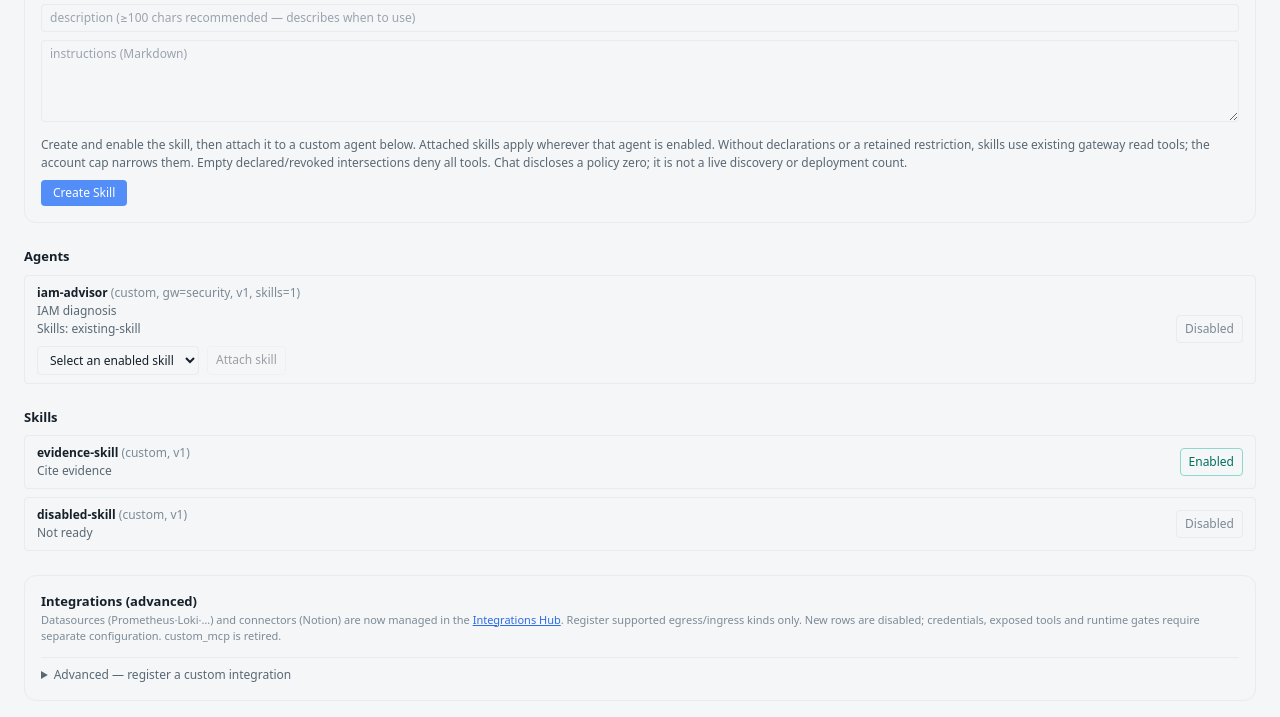
Test: custom agent registration › localizes attachment controls and failure feedback in en
This screenshot has width=1280, height=717.
(page scrolled)
Step 1. Select "evidence-skill" in the dropdown named "Skill for iam-advisor" → (118, 360), box [37, 346, 199, 374]
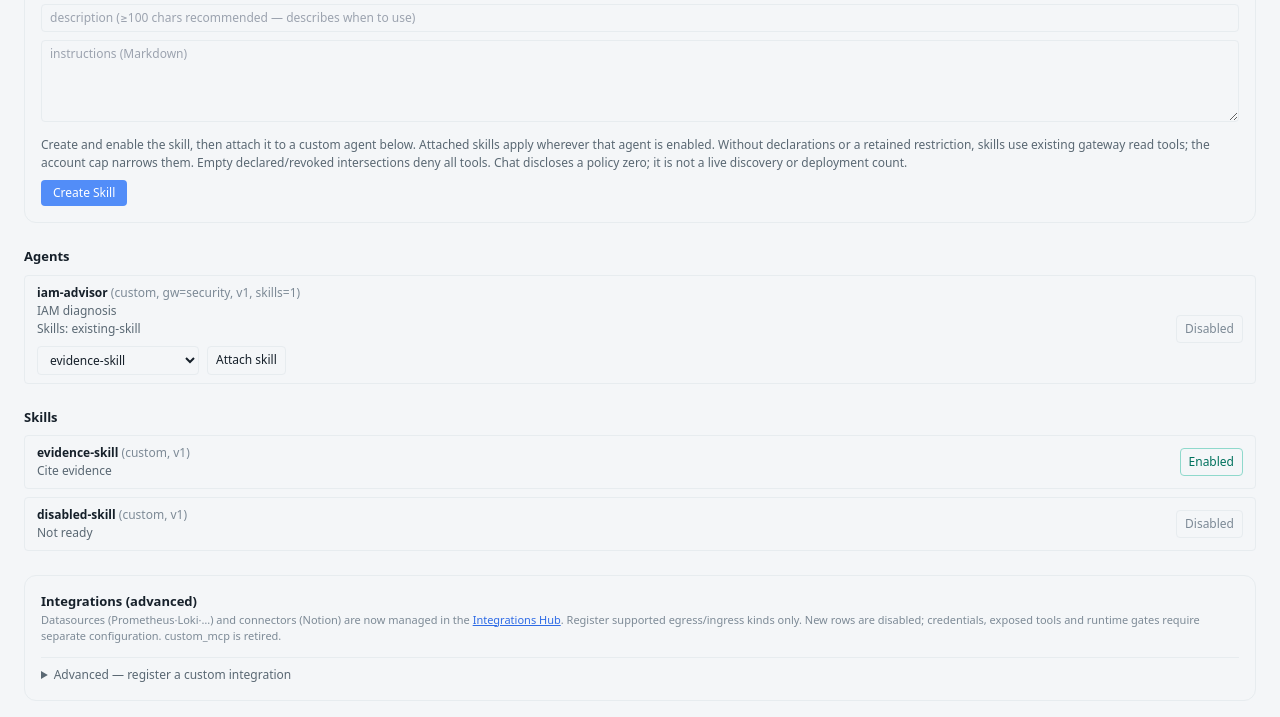
Step 2. Click the button with aria-label "Attach skill to iam-advisor" → (246, 360), box [207, 346, 286, 374]
(page scrolled)
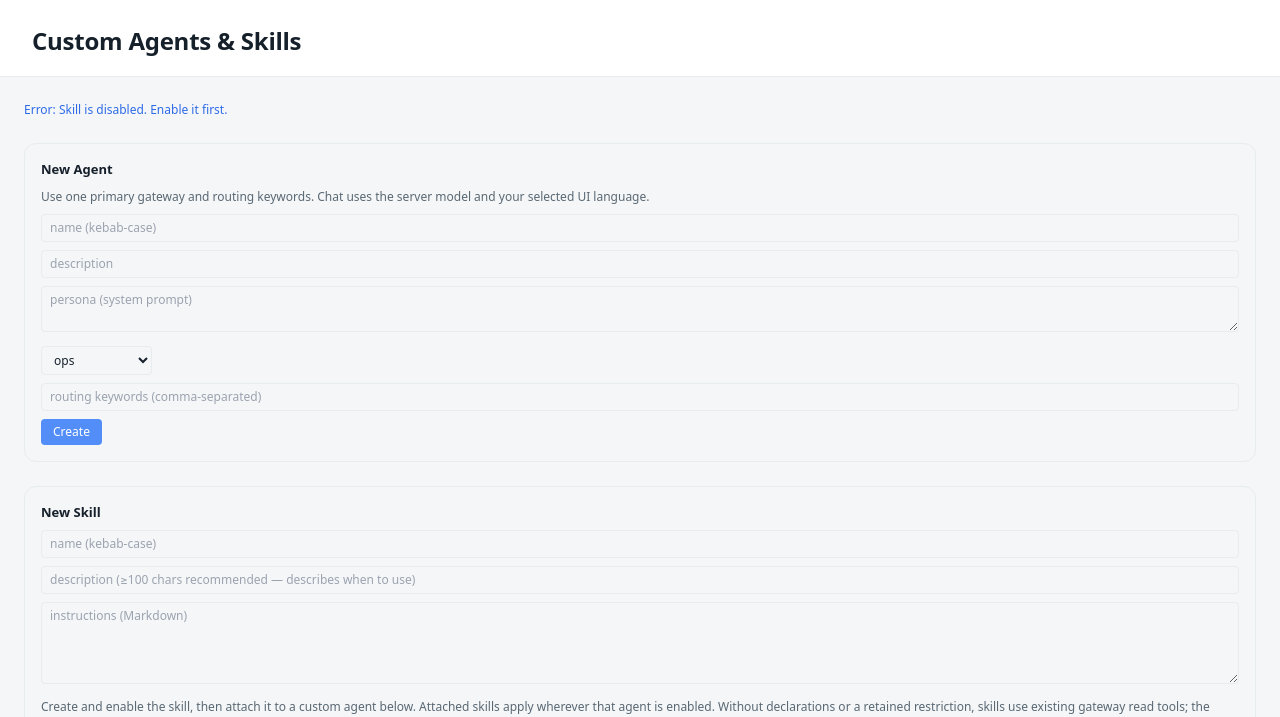
expect the text "Error: Skill is disabled. Enable it first." is shown: met, box [24, 101, 227, 118]
